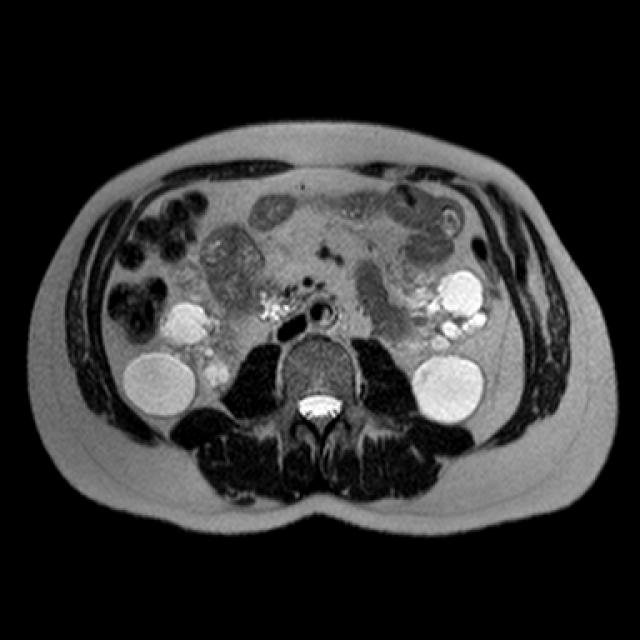sag: (117, 289, 238, 421)
sol: (408, 268, 493, 426)
